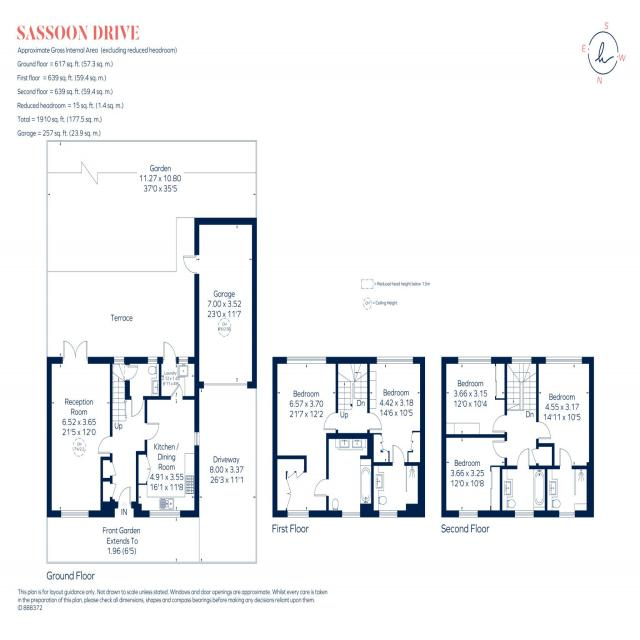DOOR: (114, 486, 135, 517), (130, 395, 144, 418), (144, 422, 160, 441), (536, 420, 551, 440), (559, 448, 573, 469), (392, 444, 405, 466), (492, 440, 507, 459), (492, 414, 507, 433), (367, 412, 382, 431), (323, 412, 338, 431), (314, 478, 329, 497), (517, 448, 530, 469), (98, 436, 113, 454), (170, 383, 183, 400), (126, 364, 138, 381)
DOUBLE DOOR: (61, 338, 89, 364)
ROOM: (46, 339, 113, 518), (272, 356, 338, 518), (136, 383, 200, 518), (536, 357, 594, 469), (367, 356, 425, 466), (441, 434, 507, 518), (441, 356, 507, 438), (162, 341, 177, 364)
WINDOW: (545, 356, 583, 365), (286, 356, 327, 364), (376, 356, 414, 364), (457, 356, 492, 364), (149, 510, 181, 518), (60, 510, 89, 518), (287, 510, 309, 518), (511, 356, 532, 364), (514, 510, 534, 518), (458, 510, 478, 518), (378, 510, 398, 518), (341, 512, 361, 518), (559, 512, 575, 518), (113, 356, 125, 364), (194, 431, 200, 446), (147, 356, 158, 364), (178, 356, 189, 364)
